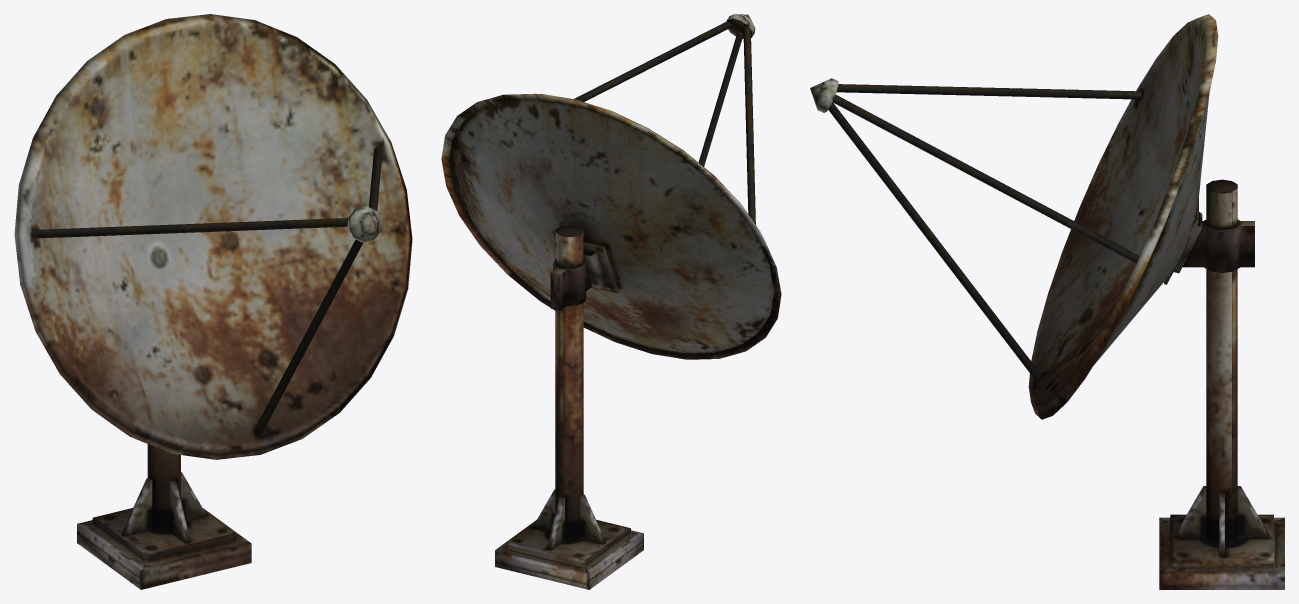
The model's file is Antenna.fbx.
3 renders of one model, left to right at view 1: azimuth 30°, elevation 25°; view 2: azimuth 150°, elevation 25°; view 3: azimuth 270°, elevation 25°, orthographic. The views are drawn at different scales.
Parts seen in each view (by area): view 1: Antenna; view 2: Antenna; view 3: Antenna.
Part boxes in pixels (bbox=[...]): Antenna: bbox=[14, 14, 412, 589]; Antenna: bbox=[441, 14, 781, 589]; Antenna: bbox=[810, 14, 1284, 589].
Size of the model in its own units: 203 by 268 by 219.
Materials: 1 (1 with a texture image).
